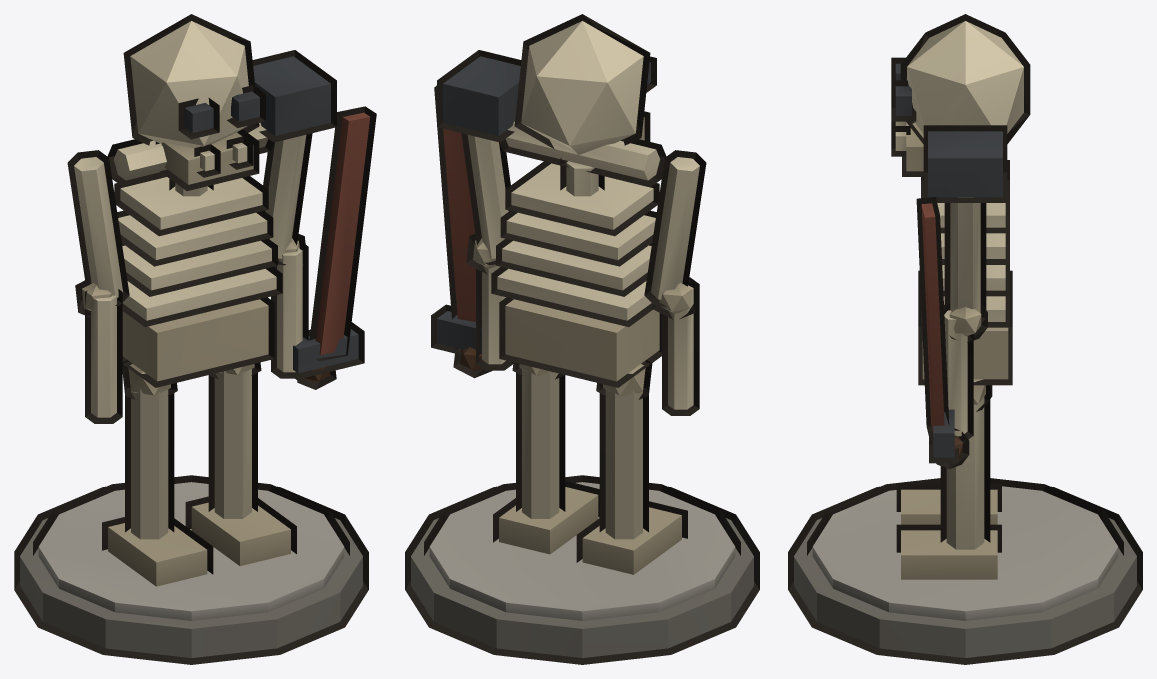
Rendered from pnj_squelette.glb.
3 renders of one model, left to right at view 1: azimuth 30°, elevation 25°; view 2: azimuth 150°, elevation 25°; view 3: azimuth 270°, elevation 25°, orthographic.
Parts seen in each view (by area): view 1: pnj_squelette, pnj_squelette_outline; view 2: pnj_squelette, pnj_squelette_outline; view 3: pnj_squelette, pnj_squelette_outline.
Part boxes in pixels (box(x1,y1,x2,y2)): pnj_squelette: box(20, 21, 370, 657); pnj_squelette_outline: box(14, 14, 376, 664); pnj_squelette: box(411, 21, 753, 657); pnj_squelette_outline: box(405, 14, 759, 664); pnj_squelette: box(794, 21, 1136, 657); pnj_squelette_outline: box(788, 14, 1142, 664).
Size of the model in its own units: 0.6814 by 1.18 by 0.6612.
